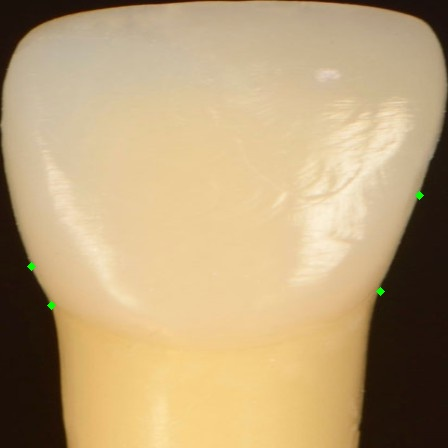coin_1: (380, 291, 400, 311)
coin_2: (419, 195, 439, 215)
coin_3: (51, 305, 71, 325)
coin_4: (31, 266, 51, 286)
